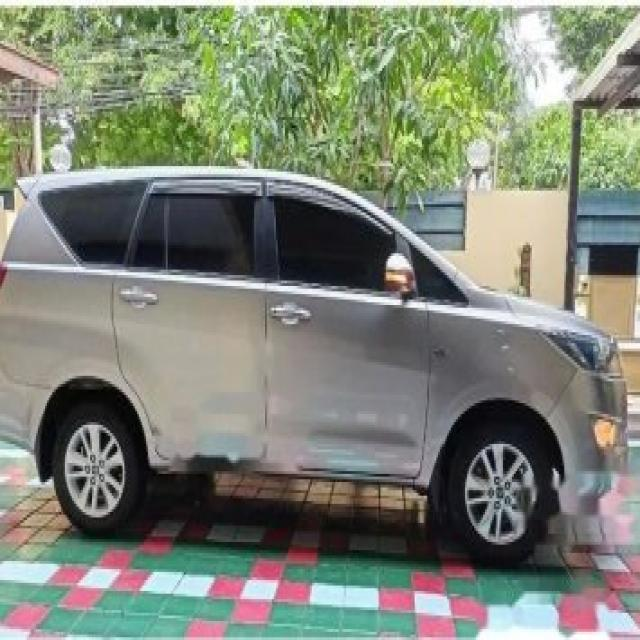light_vehicle: (0, 164, 631, 570)
